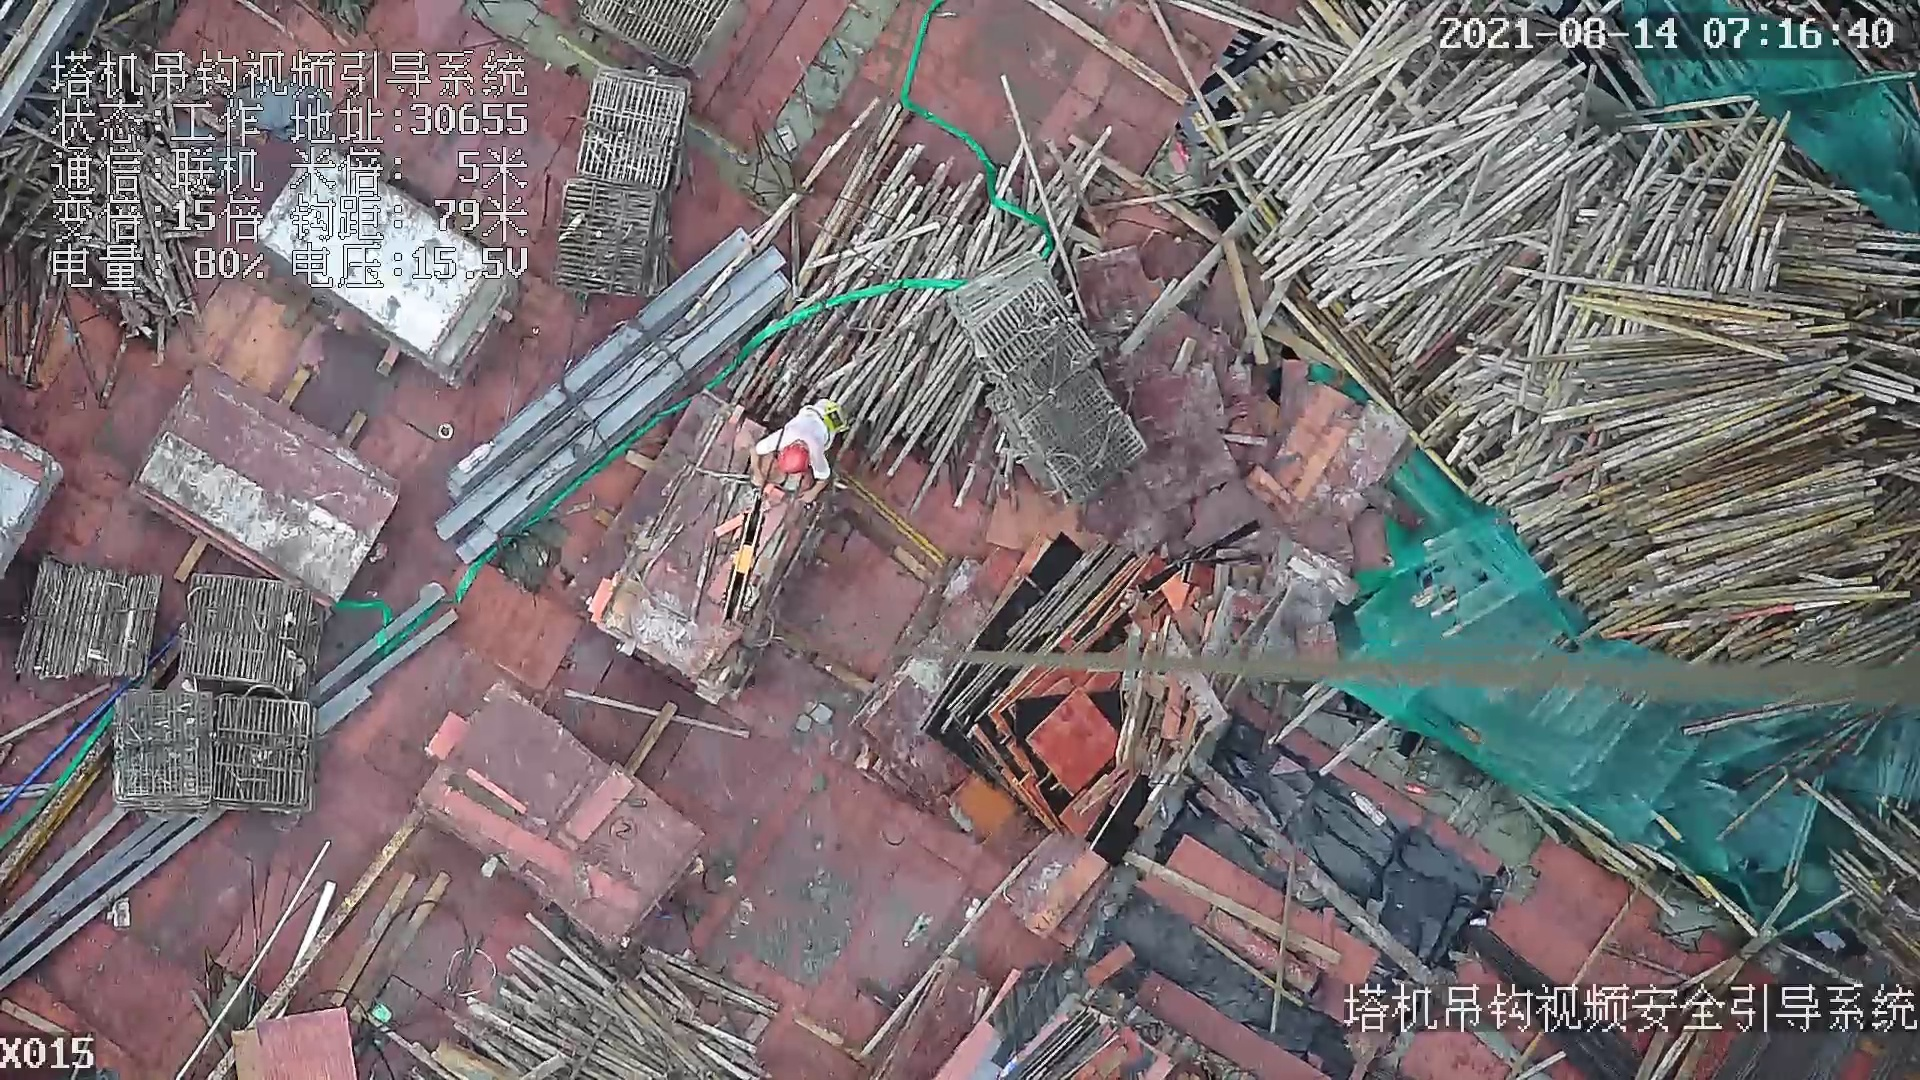helmet: (778, 441, 819, 469)
hook: (713, 483, 763, 627)
person: (745, 395, 851, 503), (744, 397, 850, 501)
